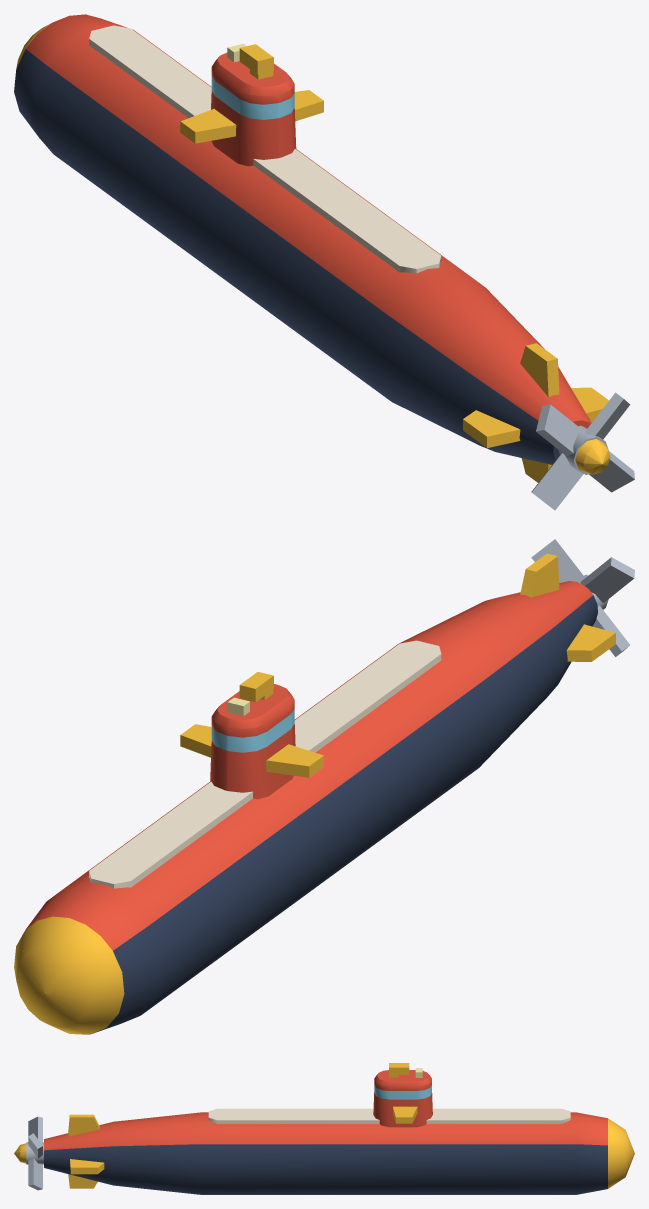
File: unit-submarine.glb
3 renders of one model, top to bottom at view 1: azimuth 30°, elevation 25°; view 2: azimuth 150°, elevation 25°; view 3: azimuth 270°, elevation 25°, orthographic. The views are drawn at different scales.
Parts seen in each view (by area): view 1: hull_bottom, hull, deck, propeller, conning_tower, tower_roof, stern_plane_left, tail_fin_top, dive_plane_left, tower_windows, propeller_cap, periscope (+2 smaller); view 2: hull_bottom, hull, deck, nose, conning_tower, propeller, tower_roof, dive_plane_left, tower_windows, stern_plane_left, tail_fin_top, periscope (+1 smaller); view 3: hull_bottom, hull, deck, nose, conning_tower, propeller, tower_roof, tail_fin_top, tower_windows, stern_plane_right, dive_plane_right, tail_fin_bottom (+1 smaller).
Boxes of the visible parts, x1,y1,x2,y2 form: hull_bottom: (14, 49, 559, 464); hull: (25, 14, 591, 428); deck: (89, 25, 441, 273); propeller: (531, 392, 634, 510); conning_tower: (211, 91, 296, 166); tower_roof: (211, 52, 294, 104); stern_plane_left: (463, 410, 520, 448); tail_fin_top: (520, 343, 559, 397); dive_plane_left: (180, 108, 236, 143); tower_windows: (211, 76, 294, 119); propeller_cap: (575, 439, 610, 474); periscope: (239, 44, 273, 79); hull_bottom: (92, 595, 597, 1033); hull: (26, 581, 592, 950); deck: (89, 640, 441, 888); nose: (14, 916, 124, 1034); conning_tower: (210, 724, 295, 799); propeller: (531, 539, 634, 656); tower_roof: (211, 684, 294, 737); dive_plane_left: (266, 744, 323, 777); tower_windows: (211, 709, 294, 752); stern_plane_left: (566, 624, 615, 661); tail_fin_top: (520, 553, 559, 597); periscope: (239, 672, 273, 702); hull_bottom: (44, 1144, 607, 1194); hull: (44, 1112, 607, 1150); deck: (208, 1108, 570, 1123); nose: (608, 1118, 634, 1188); conning_tower: (373, 1092, 432, 1127); propeller: (26, 1116, 43, 1190); tower_roof: (374, 1070, 431, 1090); tail_fin_top: (68, 1114, 99, 1136); tower_windows: (374, 1085, 431, 1099); stern_plane_right: (70, 1159, 104, 1174); dive_plane_right: (393, 1106, 417, 1123); tail_fin_bottom: (68, 1174, 97, 1188).
Bounding box in the file's own units: 4 × 6.7 × 30.
